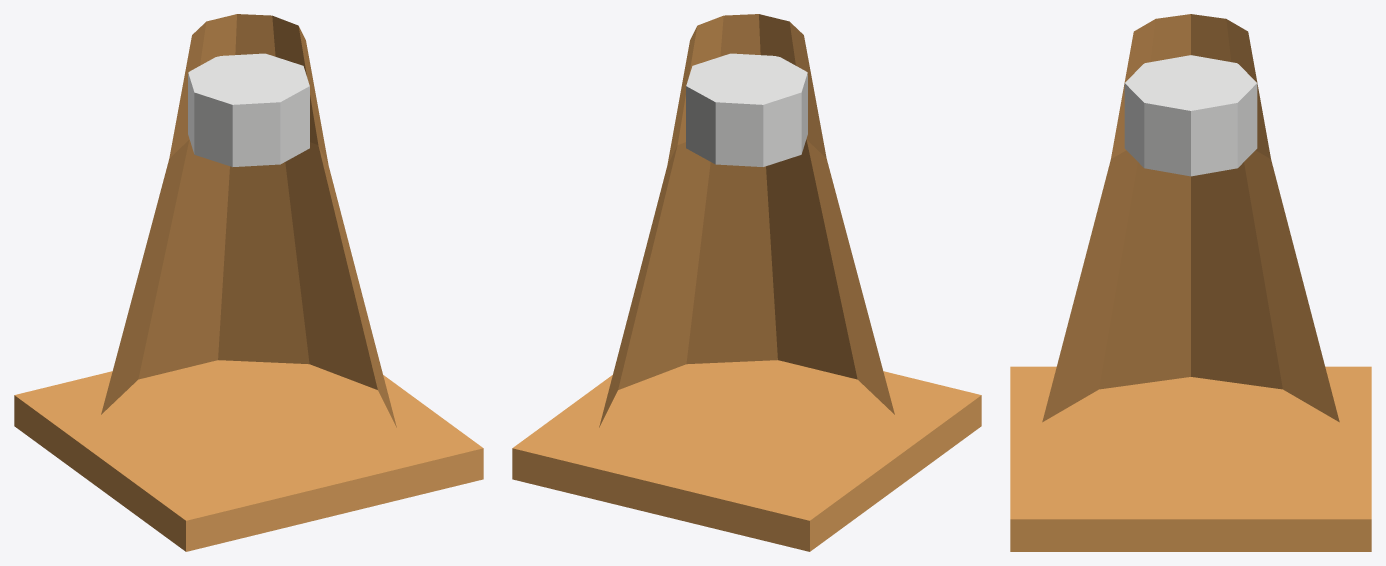
Rendered from training-cone.glb.
3 views of the same model, side by side, from view 1: azimuth 30°, elevation 25°; view 2: azimuth 150°, elevation 25°; view 3: azimuth 270°, elevation 25° (orthographic). The views are drawn at different scales.
Parts seen in each view (by area): view 1: training-cone; view 2: training-cone; view 3: training-cone.
Part boxes in pixels (x1,y1,x2,y2): training-cone: [14, 14, 483, 551]; training-cone: [512, 14, 981, 551]; training-cone: [1010, 14, 1371, 551].
Bounding box in the file's own units: 0.3 × 0.4 × 0.3.
